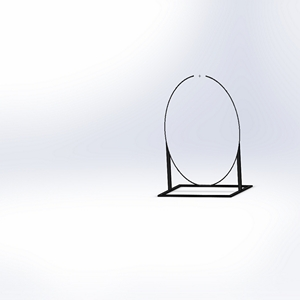circle: (158, 72, 255, 198)
